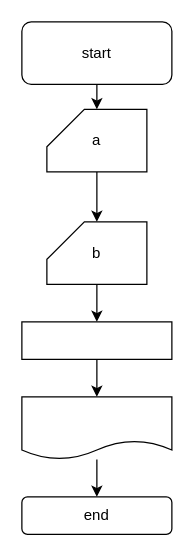
The diagram is 194 pixels wide and 556 high, and some of its shapes have lost their labels. Each missing label, with the box of its shape:
mul: (21, 396, 172, 459)
mul=a*b: (21, 321, 172, 359)
